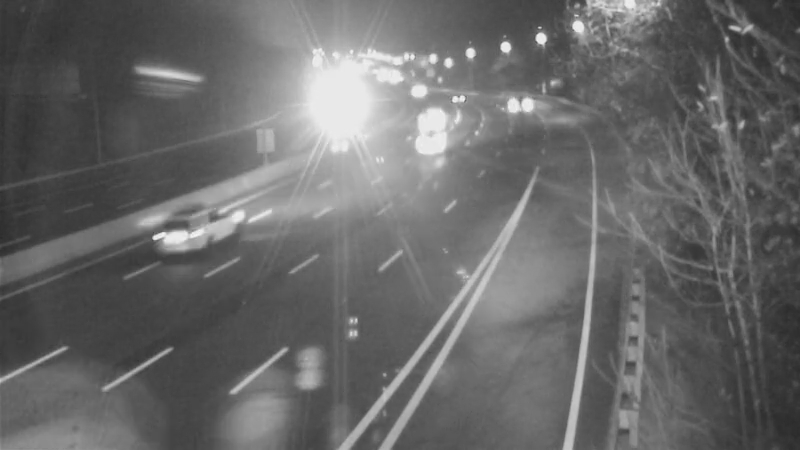vehicle: (147, 191, 227, 271), (391, 67, 441, 117), (430, 71, 480, 121), (486, 83, 536, 133), (400, 92, 450, 142), (404, 123, 454, 173), (314, 93, 364, 143)
